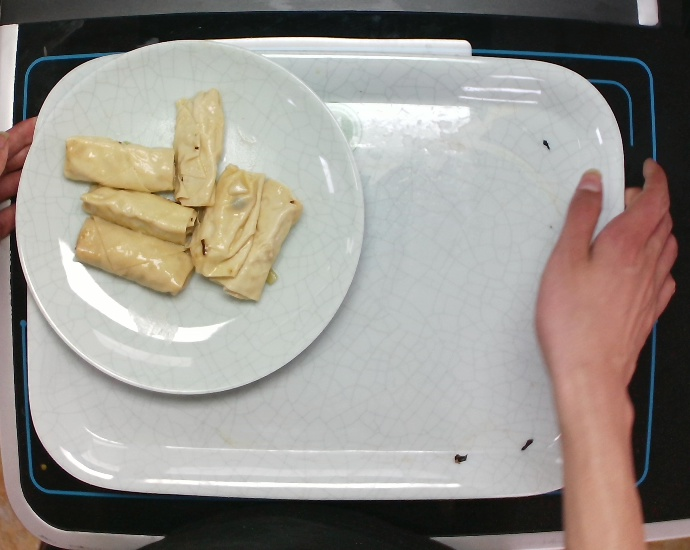JYsf-Da_Yuan_Pan: (11, 38, 369, 404)
